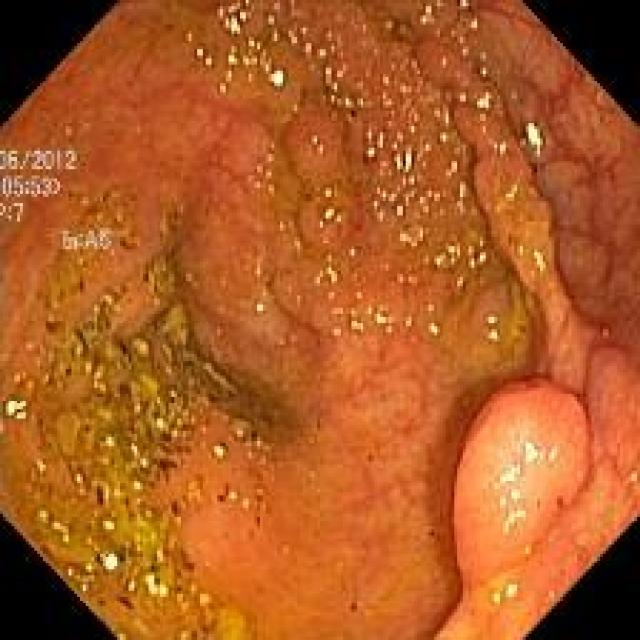Polyps: (454, 380, 591, 604)
